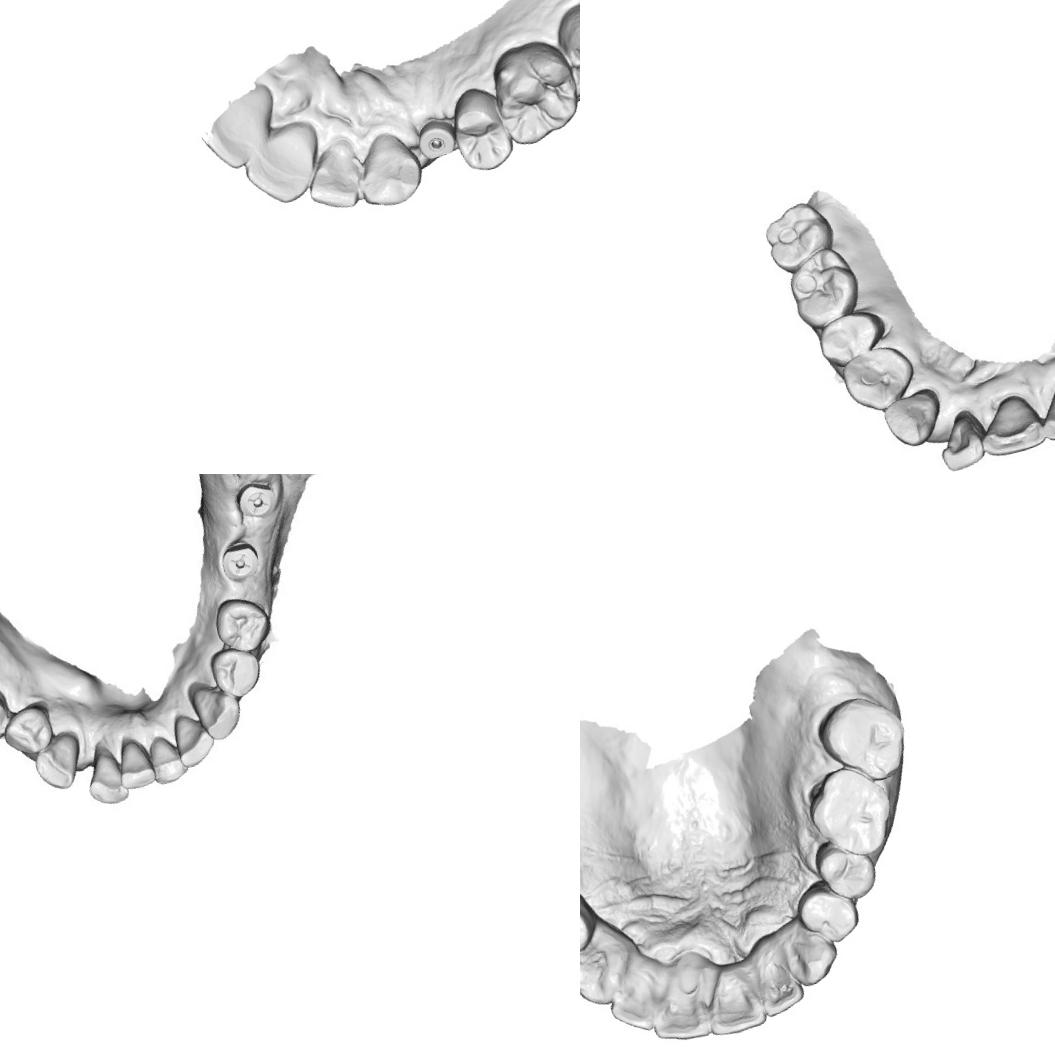canine: (346, 123, 430, 213), (773, 908, 844, 990), (580, 918, 641, 1012), (878, 382, 947, 452), (26, 728, 90, 796), (186, 674, 246, 745)
implant: (412, 112, 464, 164)
implant_plus: (210, 530, 269, 596), (227, 474, 284, 530)
incisor: (191, 82, 289, 175), (235, 122, 326, 211), (598, 948, 676, 1040), (695, 959, 771, 1041), (295, 133, 367, 216), (970, 389, 1050, 462), (646, 983, 716, 1049), (749, 946, 809, 1019), (929, 407, 992, 474), (83, 742, 132, 804), (170, 710, 216, 768), (142, 729, 190, 782), (114, 730, 158, 787), (1031, 378, 1055, 449)
molar: (481, 30, 580, 151), (799, 758, 903, 868), (812, 687, 915, 793), (778, 241, 866, 332), (756, 195, 839, 272), (545, 0, 580, 110)
premolar: (442, 80, 516, 178), (839, 340, 919, 416), (789, 871, 865, 950), (809, 830, 882, 907), (809, 305, 892, 368), (206, 588, 276, 659), (204, 637, 267, 705), (0, 698, 59, 763), (580, 890, 605, 974), (0, 688, 17, 750)
